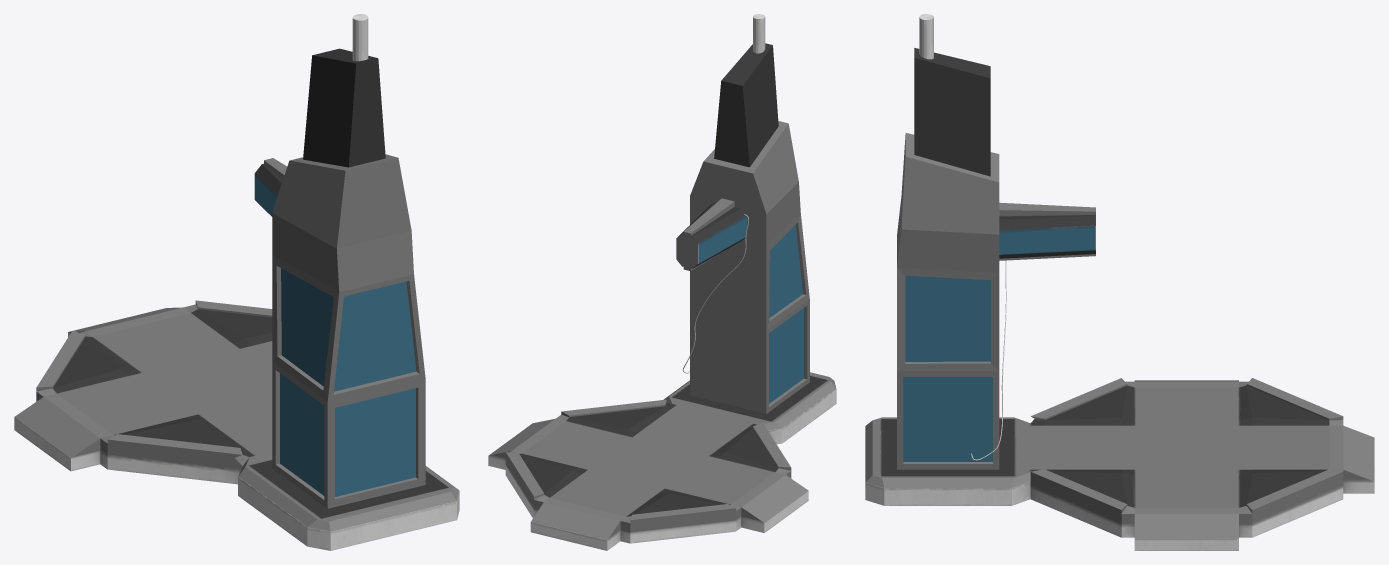
3 views of the same model, side by side, from view 1: azimuth 30°, elevation 25°; view 2: azimuth 150°, elevation 25°; view 3: azimuth 270°, elevation 25° (orthographic). The views are drawn at different scales.
Visible parts, largest first — view 1: Launch Pad; view 2: Launch Pad; view 3: Launch Pad.
Boxes of the visible parts, x1,y1,x2,y2 form: Launch Pad: (14,14,459,550); Launch Pad: (488,14,836,550); Launch Pad: (865,14,1374,550).
Bounding box in the file's own units: 23.27 × 31.08 × 31.57.
1 material, 1 textured.
